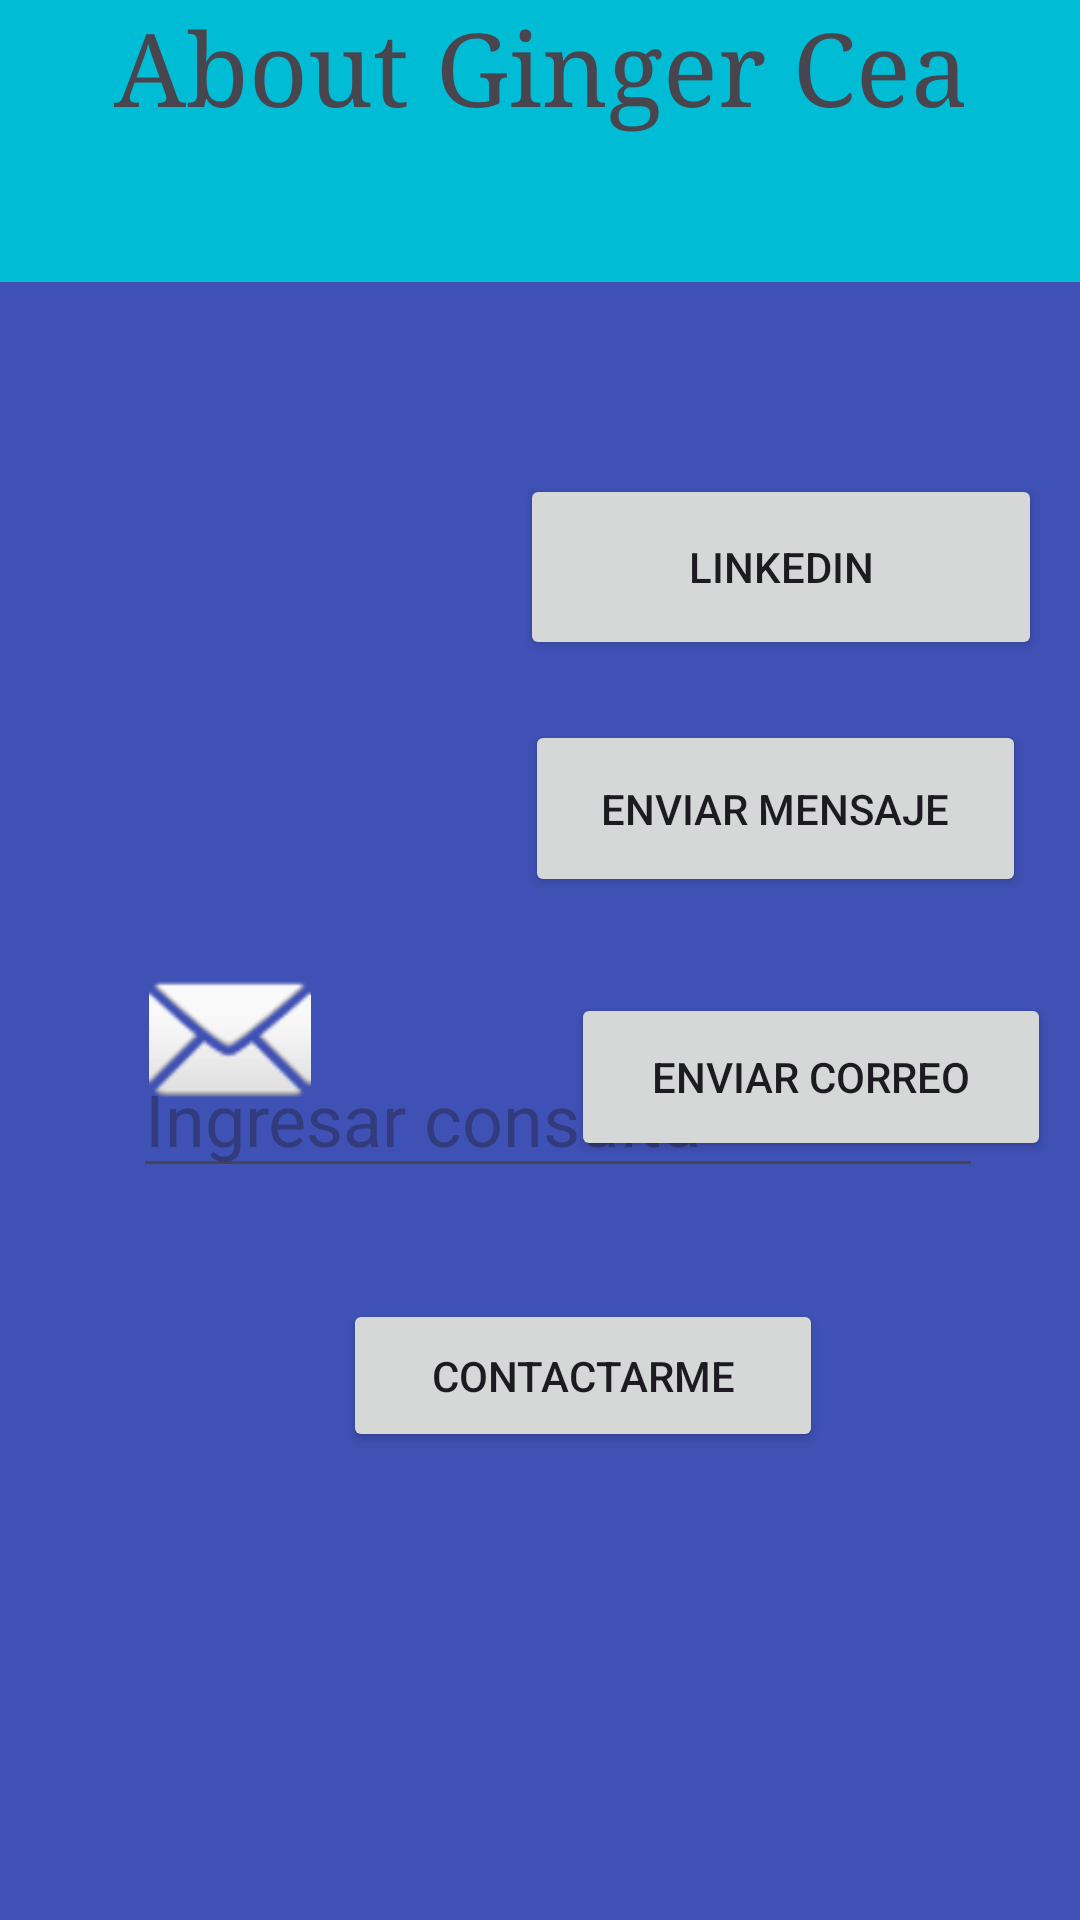

Where to tap for icons on this 1080*1920 app screen, as [x,y]:
email: [230,1039]
